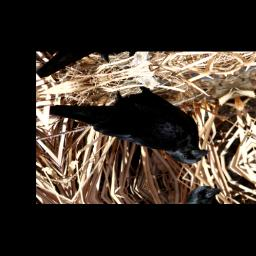Crow: (46, 74, 214, 192)
